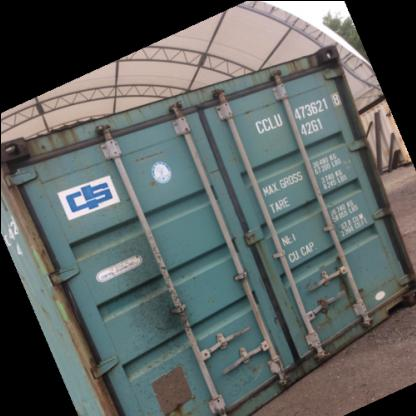Damage: (105, 202, 202, 327)
